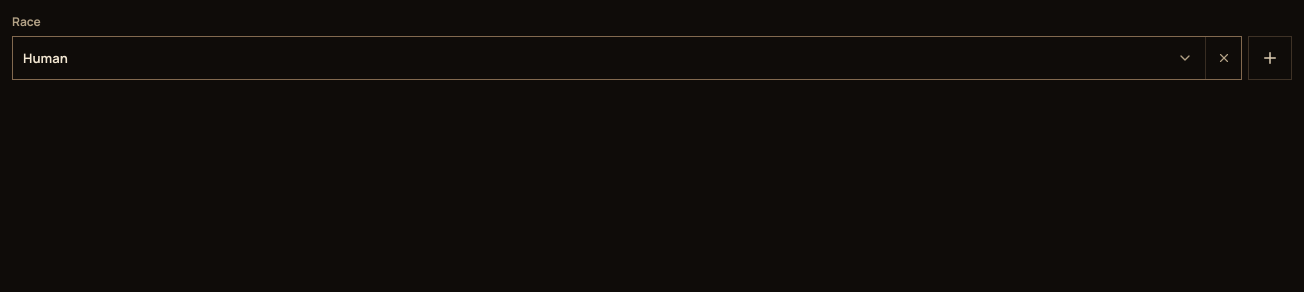
the race field › opens the new-race form from the plus
What coordinates should you click on to do the following:
click the button named "Add a new race"
I would click on:
 (1270, 58)
Its box is [1248, 36, 1292, 80].
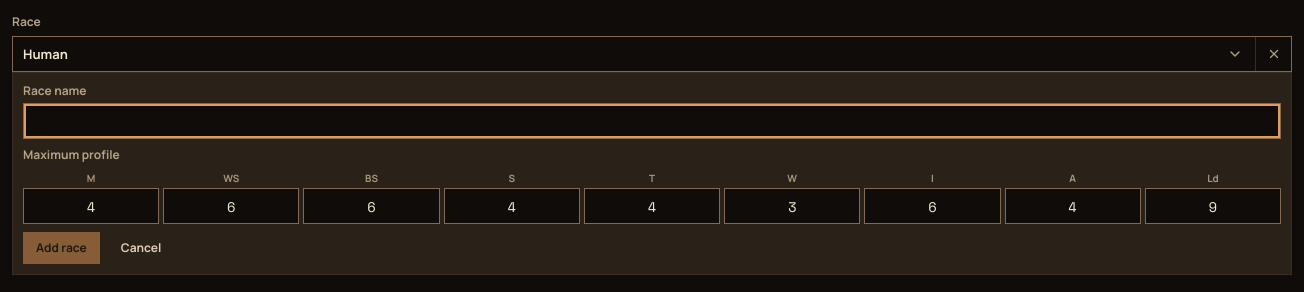
Now the field labelled "Race name" is shown, box [23, 103, 1281, 139]
